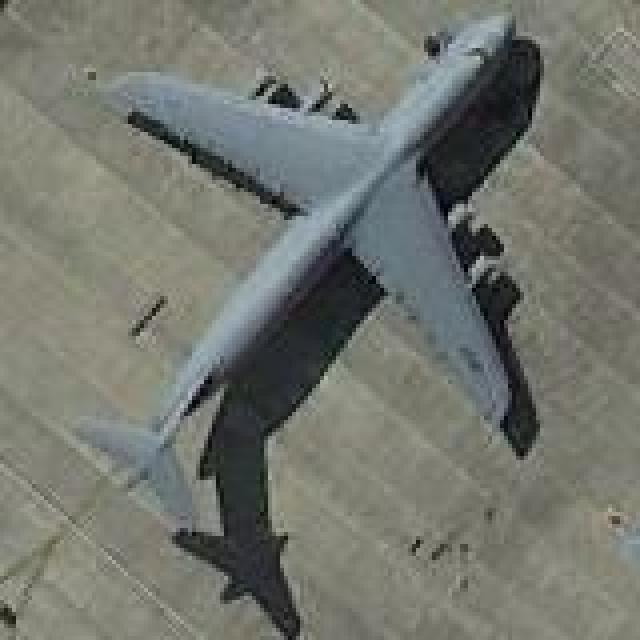C-5_TopDown: (68, 8, 548, 532)
